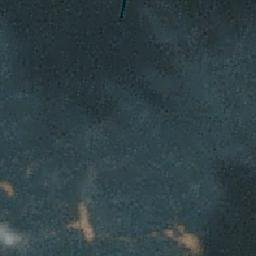cloud: (1, 215, 30, 249)
debris: (63, 201, 100, 244), (155, 224, 206, 252), (1, 180, 14, 195)
